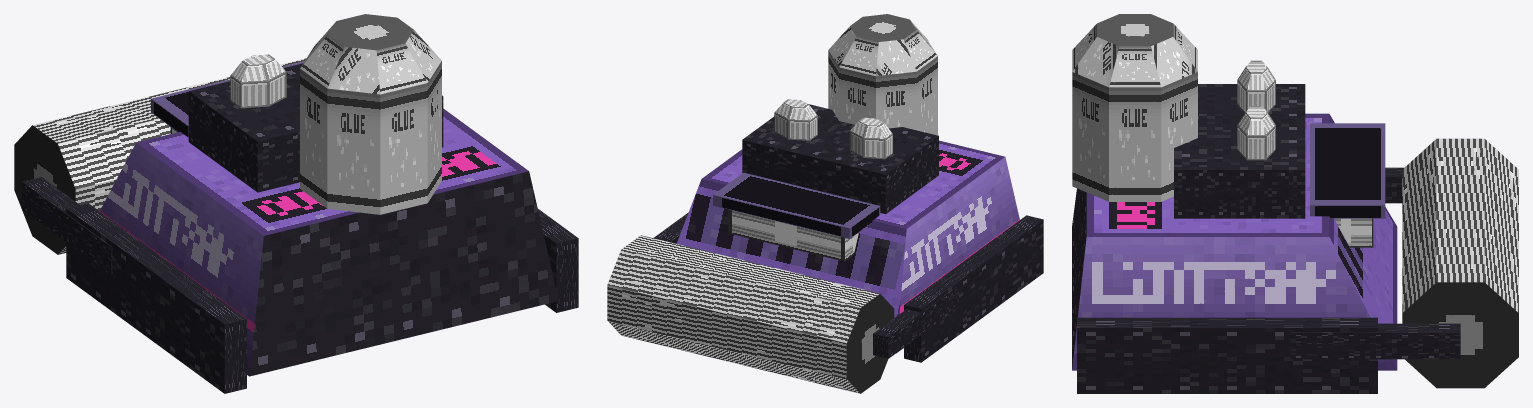
The model's file is lint_trapper.glb.
3 renders of one model, left to right at view 1: azimuth 30°, elevation 25°; view 2: azimuth 150°, elevation 25°; view 3: azimuth 270°, elevation 25°, orthographic. The views are drawn at different scales.
Parts seen in each view (by area): view 1: Body, Tank, Brush, Cab, SirenRed; view 2: Body, Brush, Cab, Tank, Eye, SirenRed, SirenBlue; view 3: Body, Brush, Tank, Cab, SirenBlue, SirenRed, Eye.
Part boxes in pixels (box(x1,y1,x2,y2)): Body: box(22, 61, 578, 393); Tank: box(300, 14, 441, 214); Brush: box(14, 58, 306, 254); Cab: box(188, 63, 443, 192); SirenRed: box(230, 54, 286, 108); Body: box(653, 140, 1043, 362); Brush: box(607, 235, 894, 393); Cab: box(742, 104, 938, 214); Tank: box(828, 14, 937, 135); Eye: box(728, 209, 858, 261); SirenRed: box(849, 117, 892, 159); SirenBlue: box(774, 99, 817, 140); Body: box(1072, 113, 1460, 393); Brush: box(1402, 138, 1518, 388); Tank: box(1072, 14, 1197, 201); Cab: box(1174, 84, 1305, 218); SirenBlue: box(1237, 106, 1275, 160); SirenRed: box(1237, 60, 1275, 112); Eye: box(1334, 218, 1373, 247).
Size of the model in its own units: 1.01 by 0.8126 by 1.15.
1 material, 1 textured.
